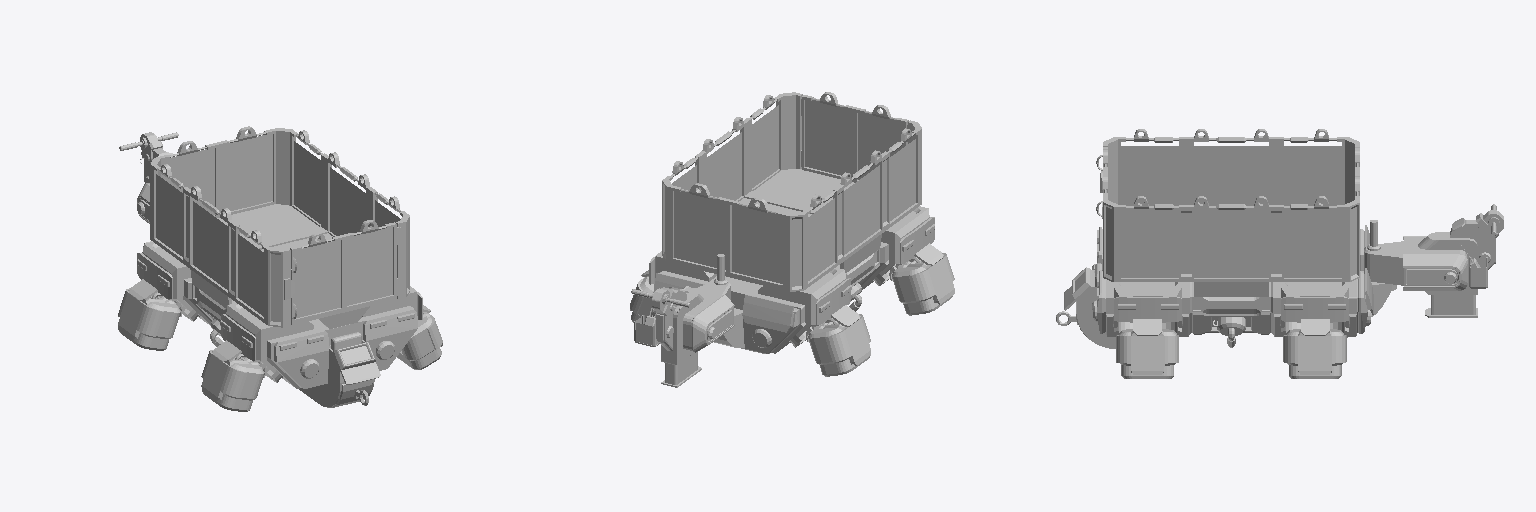
File: HoverKat.obj
3 renders of one model, left to right at view 1: azimuth 30°, elevation 25°; view 2: azimuth 150°, elevation 25°; view 3: azimuth 270°, elevation 25°, orthographic.
Visible parts, largest first — view 1: HoverKat_Cart_Mesh.026, HoverKat_Handle_Mesh.025; view 2: HoverKat_Cart_Mesh.026, HoverKat_Handle_Mesh.025; view 3: HoverKat_Cart_Mesh.026, HoverKat_Handle_Mesh.025.
Part boxes in pixels (x1,y1,x2,y2): HoverKat_Cart_Mesh.026: (118,126,442,411); HoverKat_Handle_Mesh.025: (119,132,178,223); HoverKat_Cart_Mesh.026: (630,92,954,376); HoverKat_Handle_Mesh.025: (631,254,734,387); HoverKat_Cart_Mesh.026: (1056,129,1396,378); HoverKat_Handle_Mesh.025: (1364,204,1503,317).
Size of the model in its own units: 2.76 by 2.15 by 4.73.